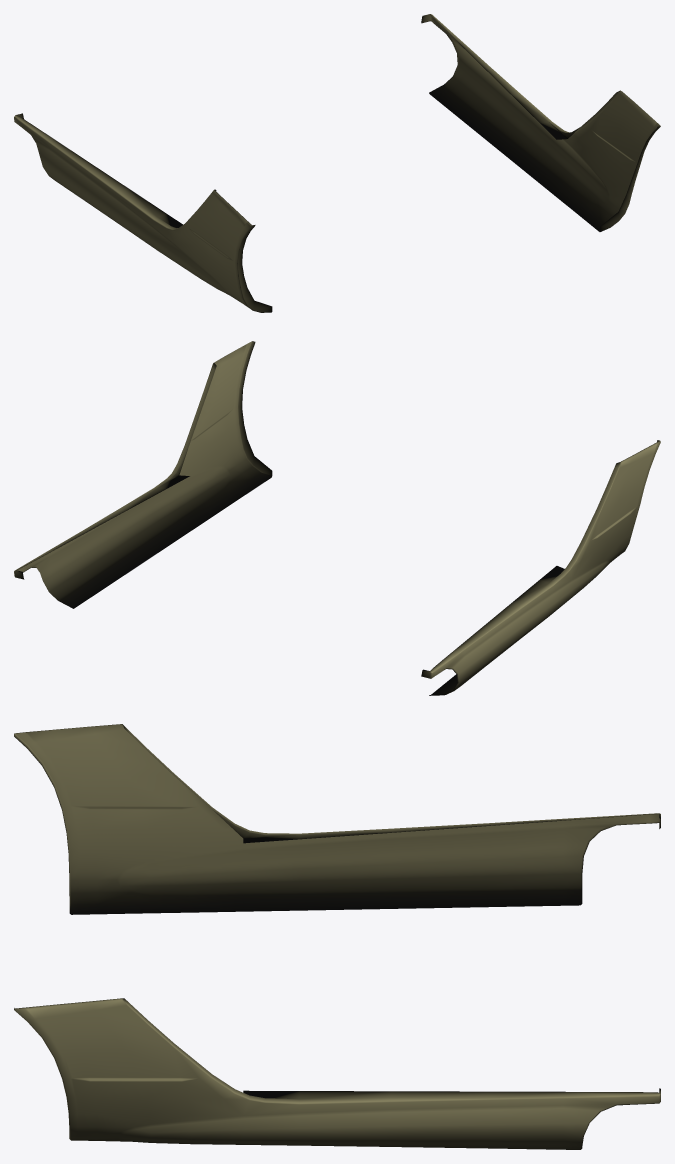
Rendered from Viper_Skirt_01_Duco.fbx.
3 renders of one model, top to bottom at view 1: azimuth 30°, elevation 25°; view 2: azimuth 150°, elevation 25°; view 3: azimuth 270°, elevation 25°, orthographic. The views are drawn at different scales.
Visible parts, largest first — view 1: Viper_Skirt_01_Duco; view 2: Viper_Skirt_01_Duco; view 3: Viper_Skirt_01_Duco.
Boxes of the visible parts, x1,y1,x2,y2 form: Viper_Skirt_01_Duco: [14, 14, 660, 312]; Viper_Skirt_01_Duco: [14, 341, 660, 695]; Viper_Skirt_01_Duco: [14, 724, 660, 1149].
Bounding box in the file's own units: 189 × 51.38 × 183.
